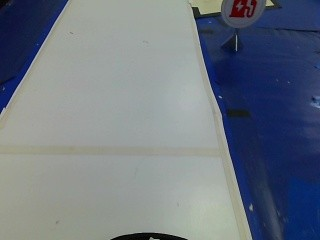battery: (223, 0, 259, 24)
